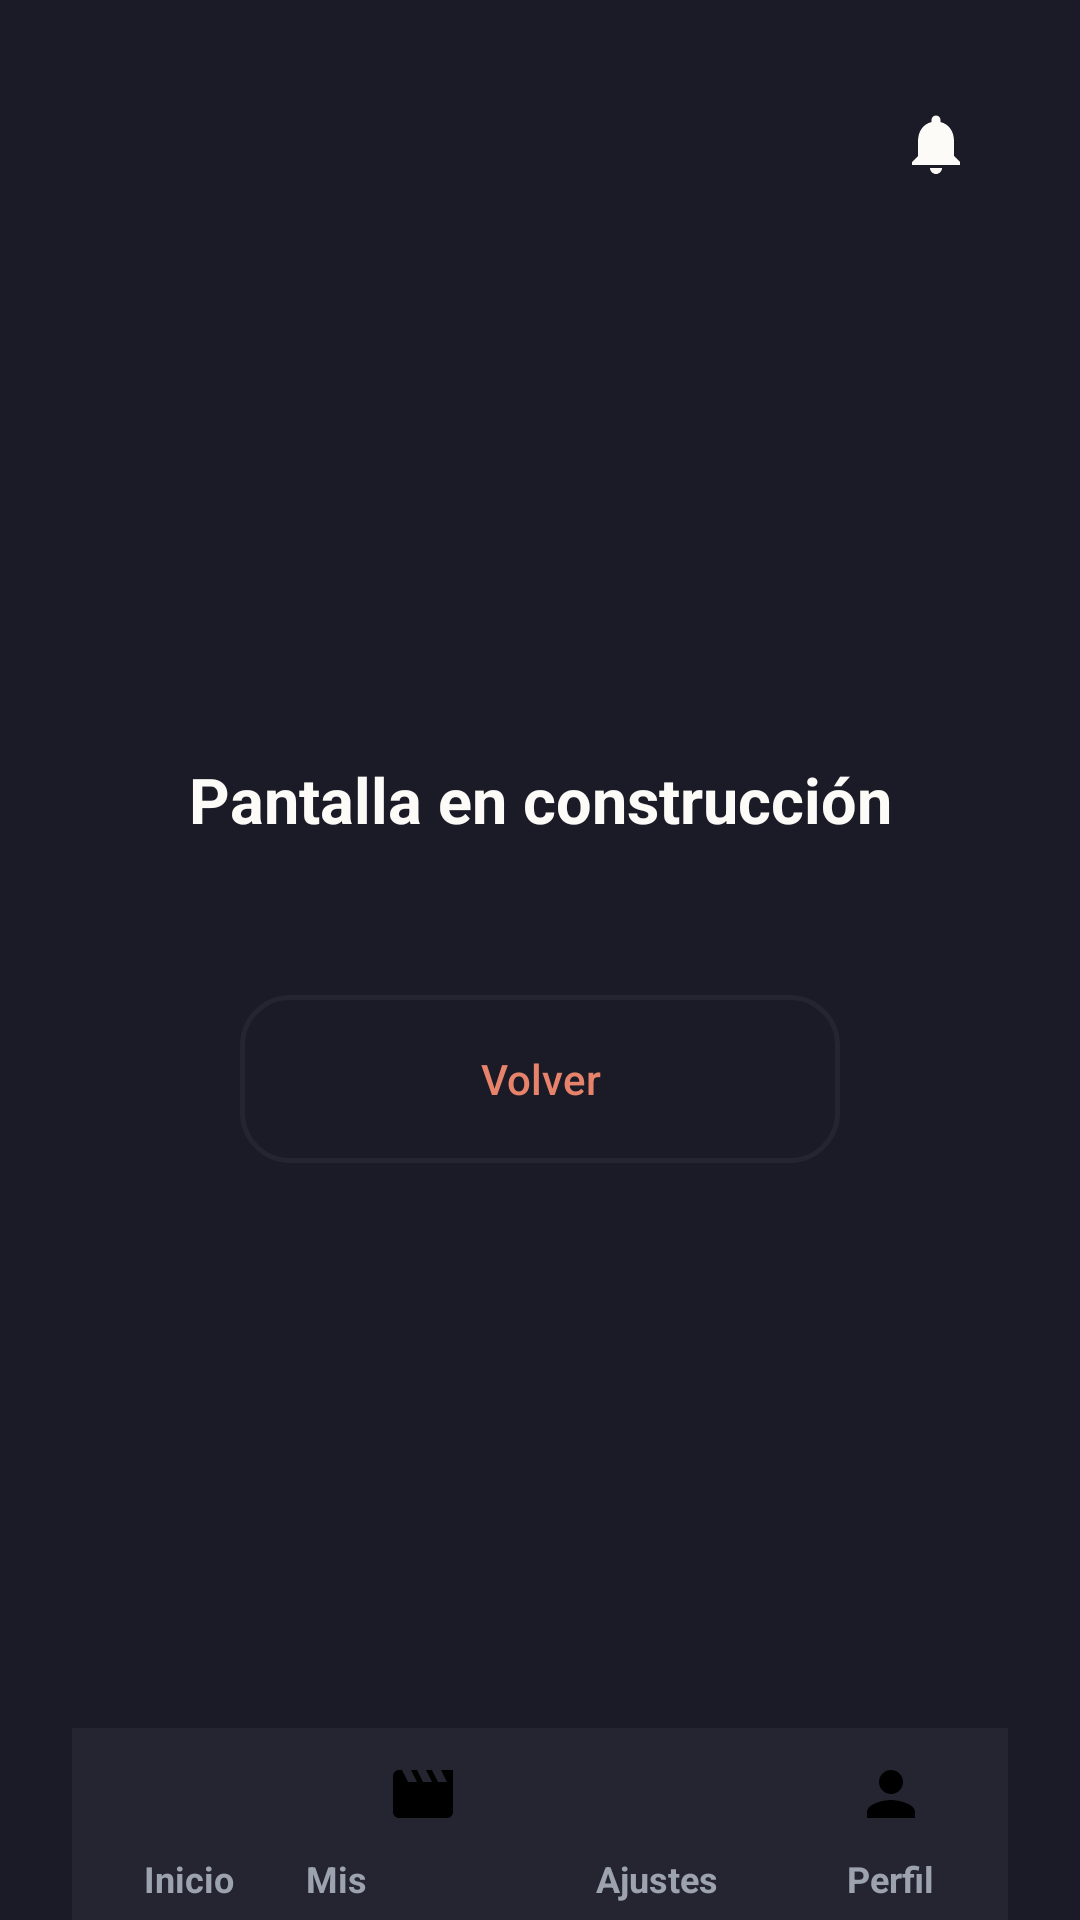

Screen size 1080 × 1920. Icon name, then its box in pixels as bbox=(x1, y1, x2, y2):
Abrir notificaciones: bbox=(912, 115, 960, 174)
